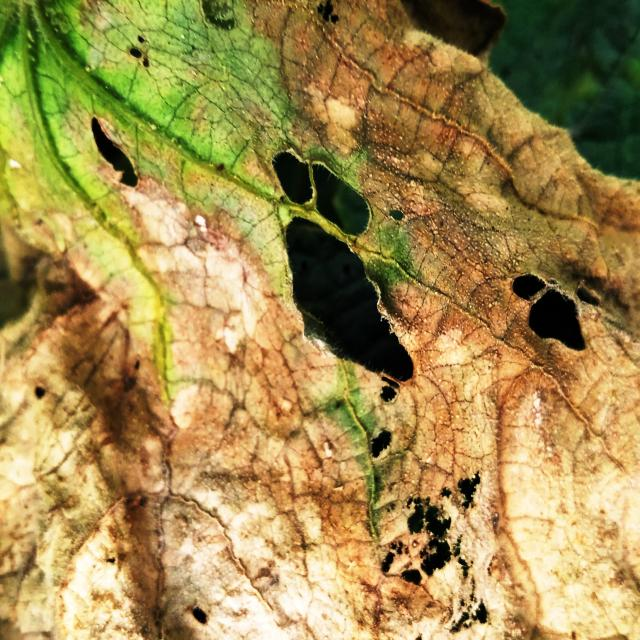Anthracnose: (266, 144, 433, 467), (377, 466, 505, 637), (508, 258, 606, 358), (85, 112, 146, 192)
